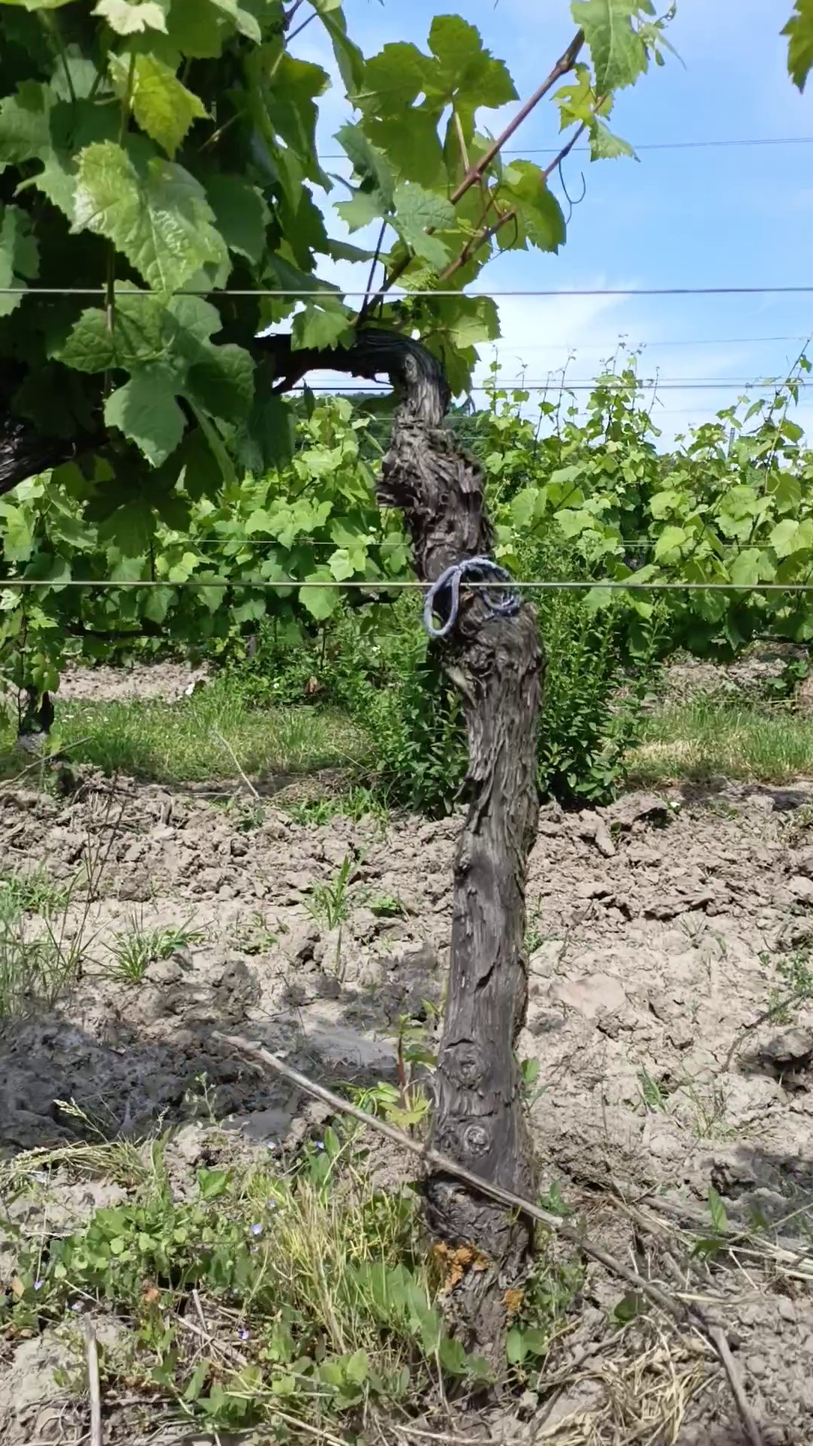vine_trunk: (351, 331, 544, 1194), (427, 1166, 531, 1286)
